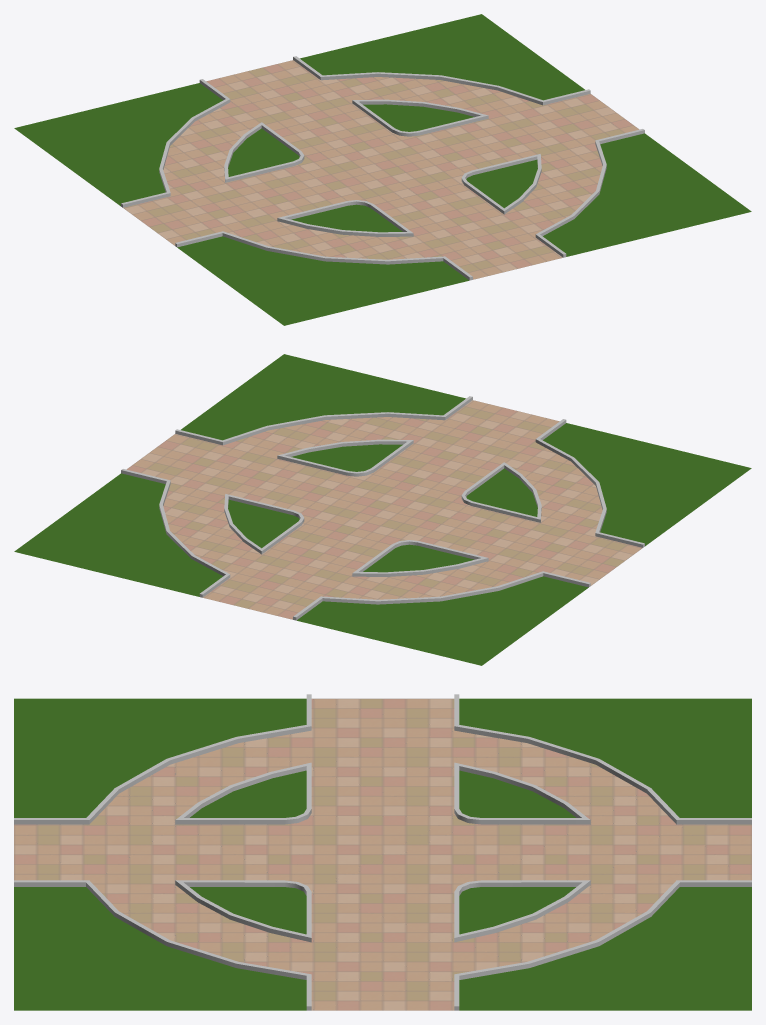
The model's file is Park_Sidewalk_04.fbx.
3 renders of one model, top to bottom at view 1: azimuth 30°, elevation 25°; view 2: azimuth 150°, elevation 25°; view 3: azimuth 270°, elevation 25°, orthographic. The views are drawn at different scales.
Parts seen in each view (by area): view 1: Park_Sidewalk_04; view 2: Park_Sidewalk_04; view 3: Park_Sidewalk_04.
Boxes of the visible parts, x1,y1,x2,y2 form: Park_Sidewalk_04: (14, 14, 751, 325); Park_Sidewalk_04: (14, 354, 751, 665); Park_Sidewalk_04: (14, 694, 751, 1010).
Bounding box in the file's own units: 3000 × 3000 × 20.
